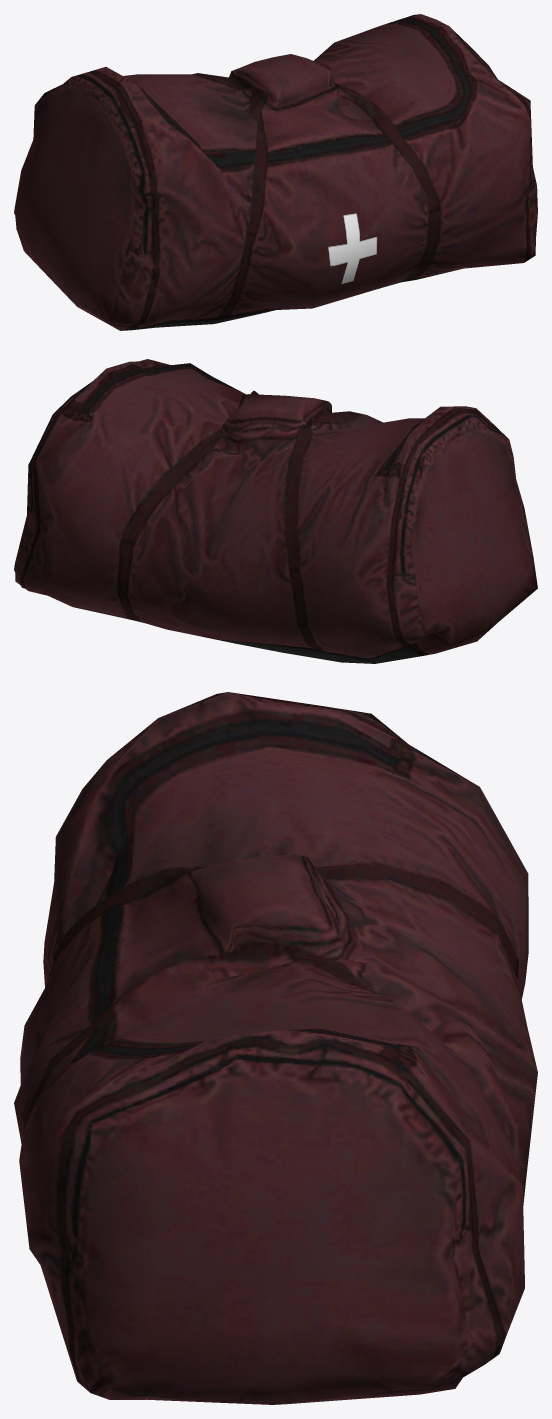
The model's file is medicbag.obj.
3 views of the same model, one above another, from view 1: azimuth 30°, elevation 25°; view 2: azimuth 150°, elevation 25°; view 3: azimuth 270°, elevation 25° (orthographic). The views are drawn at different scales.
Parts seen in each view (by area): view 1: item_bag_loot; view 2: item_bag_loot; view 3: item_bag_loot.
Part boxes in pixels (left/top/right/bottom): item_bag_loot: left=14, top=14, right=537, bottom=330; item_bag_loot: left=14, top=359, right=537, bottom=663; item_bag_loot: left=14, top=692, right=537, bottom=1404.
Bounding box in the file's own units: 24.3 × 12.35 × 14.5.
Materials: 2 (1 with a texture image).
